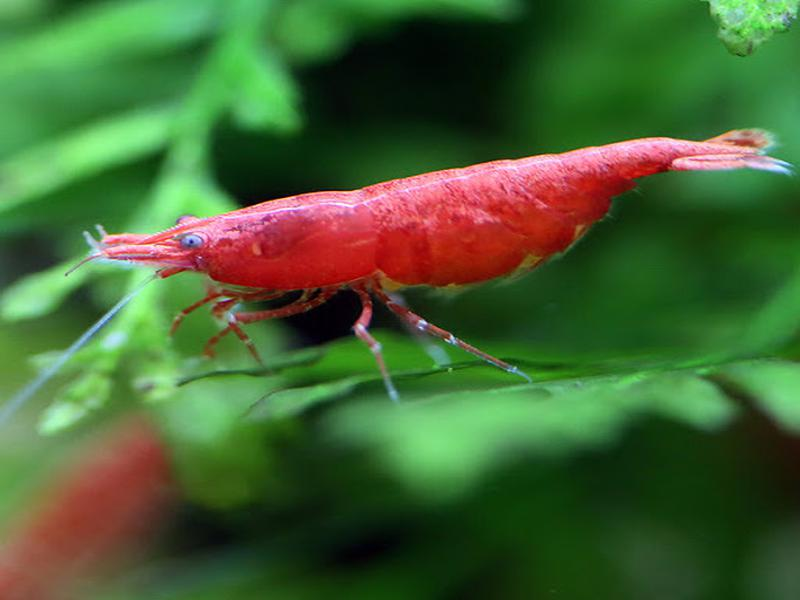shrimp: (83, 122, 792, 377)
